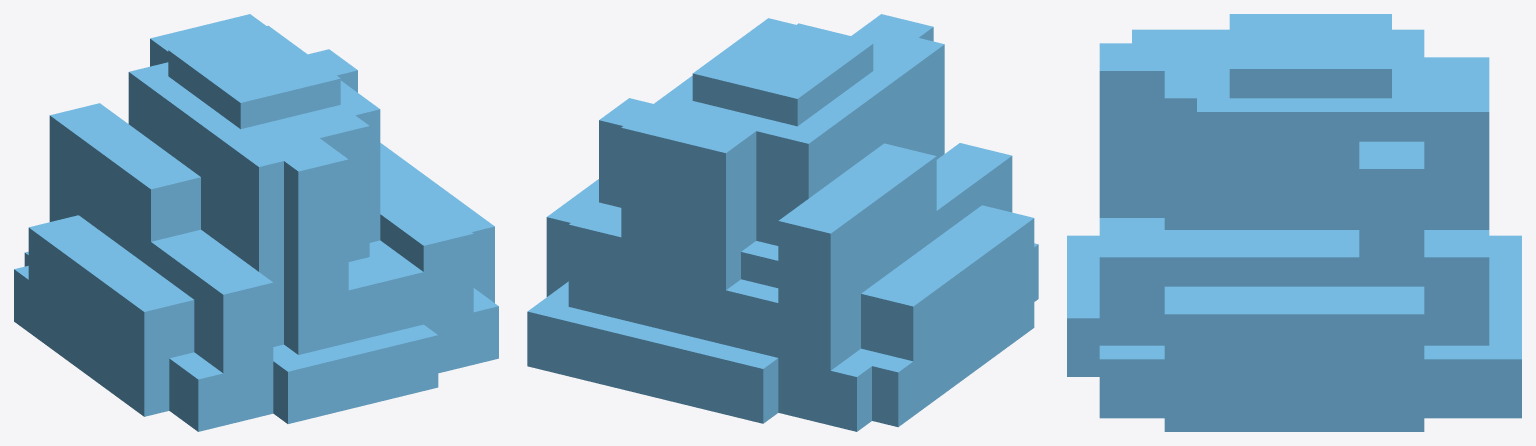
File: Rock2.dae
3 views of the same model, side by side, from view 1: azimuth 30°, elevation 25°; view 2: azimuth 150°, elevation 25°; view 3: azimuth 270°, elevation 25° (orthographic). The views are drawn at different scales.
Visible parts, largest first — view 1: Rock2; view 2: Rock2; view 3: Rock2.
Boxes of the visible parts, x1,y1,x2,y2 form: Rock2: [14, 14, 498, 431]; Rock2: [527, 14, 1038, 431]; Rock2: [1067, 14, 1521, 431].
Bounding box in the file's own units: 14 × 10 × 14.
